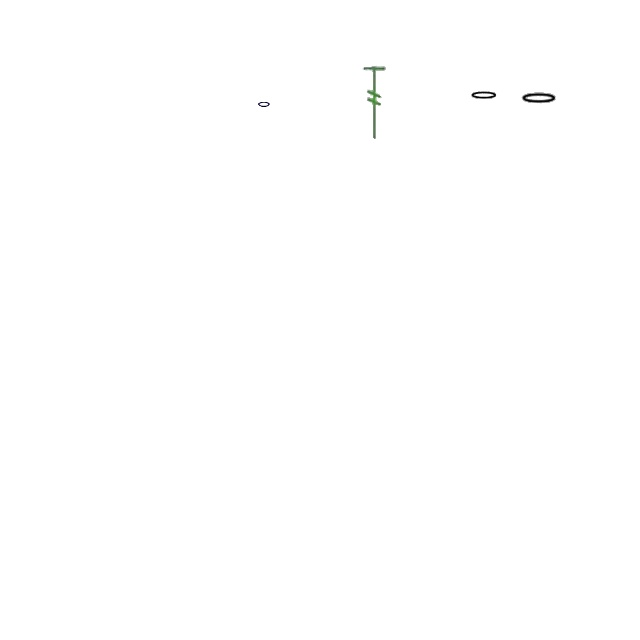chain: (519, 92, 559, 106), (469, 90, 499, 102), (257, 99, 271, 109)
fan: (361, 65, 387, 141)
